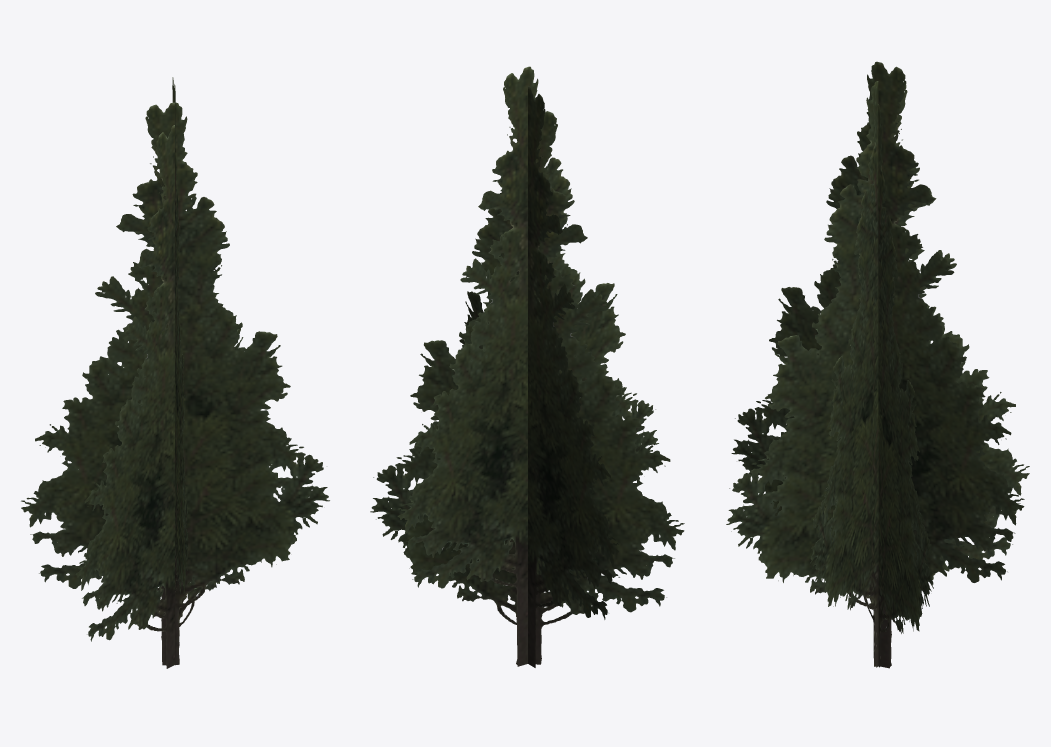
File: small_tree_rt_1.fbx
3 views of the same model, side by side, from view 1: azimuth 30°, elevation 25°; view 2: azimuth 150°, elevation 25°; view 3: azimuth 270°, elevation 25° (orthographic). The views are drawn at different scales.
Visible parts, largest first — view 1: small_tree_rt_1; view 2: small_tree_rt_1; view 3: small_tree_rt_1.
Part boxes in pixels (x1,y1,x2,y2): small_tree_rt_1: (21, 77, 329, 668); small_tree_rt_1: (370, 66, 684, 667); small_tree_rt_1: (726, 61, 1029, 668).
Bounding box in the file's own units: 0.5779 × 0.5779 × 1.22.
